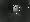person: (15, 7, 23, 16)
